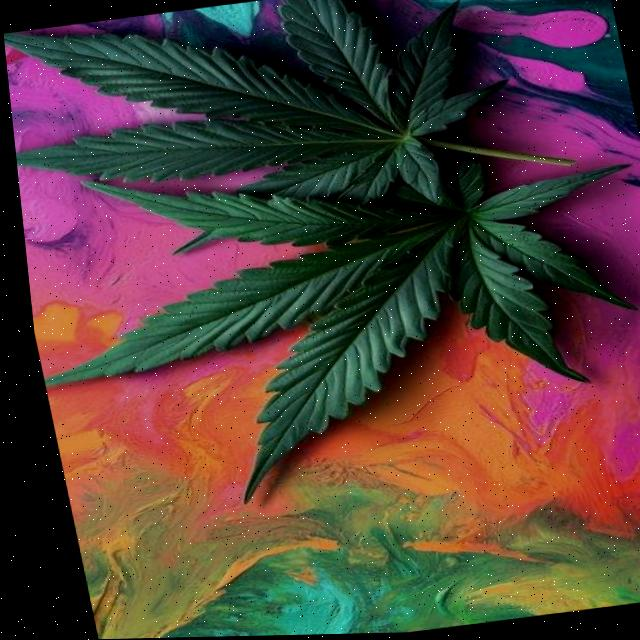cannabis: (43, 150, 637, 507), (3, 0, 578, 201)
